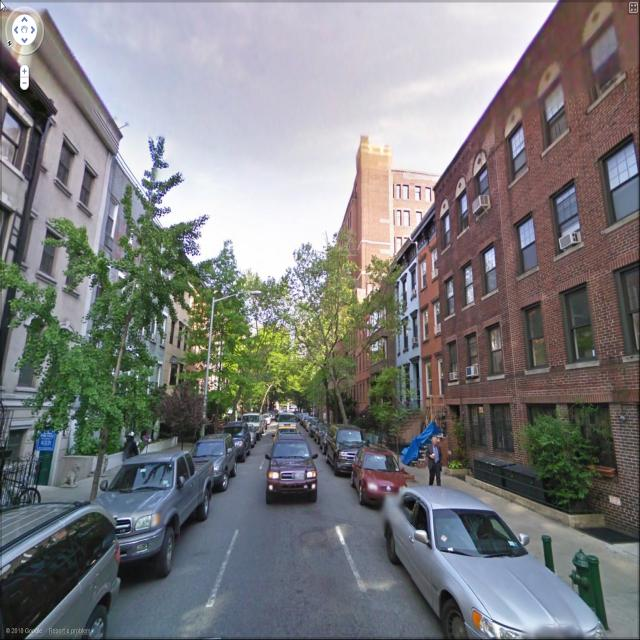b_1: (500, 9, 640, 480), (435, 118, 520, 470), (414, 214, 451, 443)
b_2: (0, 6, 121, 448), (296, 149, 400, 435), (89, 144, 163, 458), (144, 235, 208, 438), (356, 274, 411, 432), (190, 286, 247, 420)
